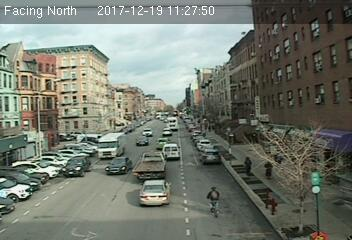bicycle: (206, 186, 222, 218)
car: (140, 179, 172, 205), (63, 154, 89, 178), (105, 158, 132, 173), (202, 150, 221, 164), (134, 136, 148, 146), (157, 138, 168, 148)
truck: (132, 151, 168, 180), (93, 132, 126, 160), (162, 143, 181, 160)
